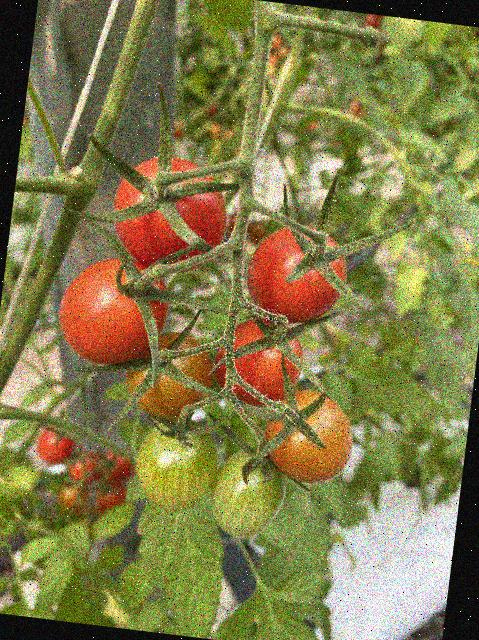l_fully_ripened: (106, 149, 235, 279), (54, 251, 173, 372), (241, 217, 354, 330), (210, 311, 308, 410)
l_green: (130, 411, 222, 518), (205, 444, 290, 542)
l_half_ripened: (260, 385, 359, 488), (118, 326, 220, 424)
